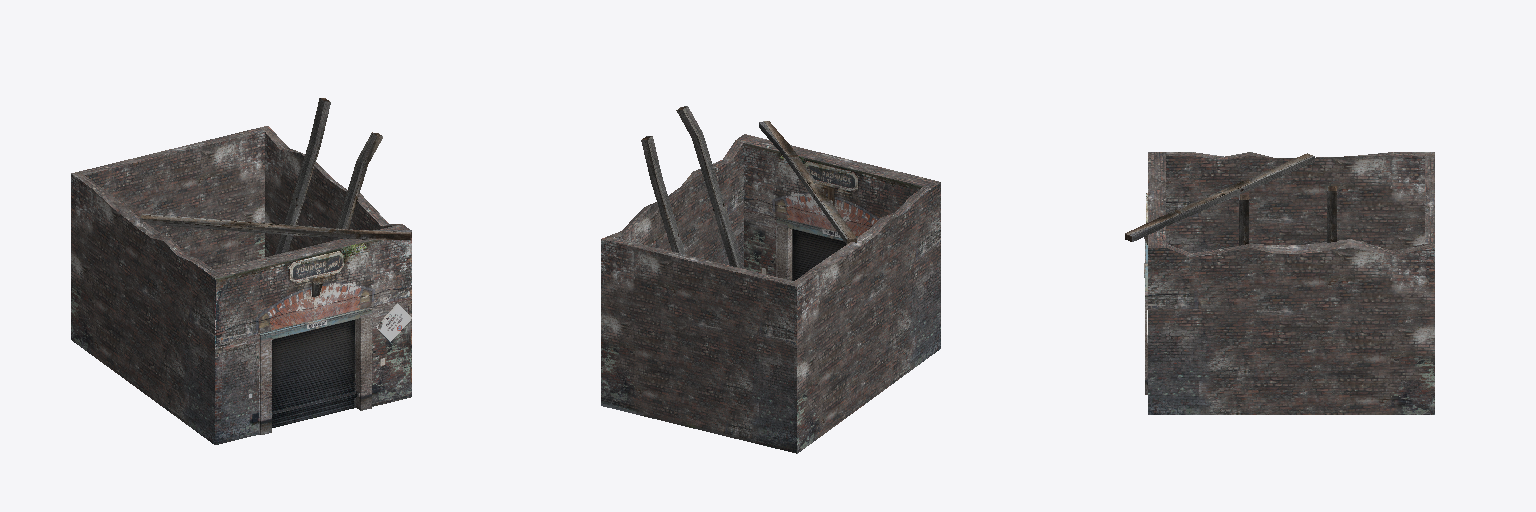
3 renders of one model, left to right at view 1: azimuth 30°, elevation 25°; view 2: azimuth 150°, elevation 25°; view 3: azimuth 270°, elevation 25°, orthographic.
Visible parts, largest first — view 1: worn_torn14; view 2: worn_torn14; view 3: worn_torn14.
Boxes of the visible parts, <box> form: worn_torn14: <box>71,98,411,444</box>; worn_torn14: <box>601,106,940,453</box>; worn_torn14: <box>1125,152,1434,414</box>.
Size of the model in its own units: 293 by 300 by 368.
1 materials, 1 textured.